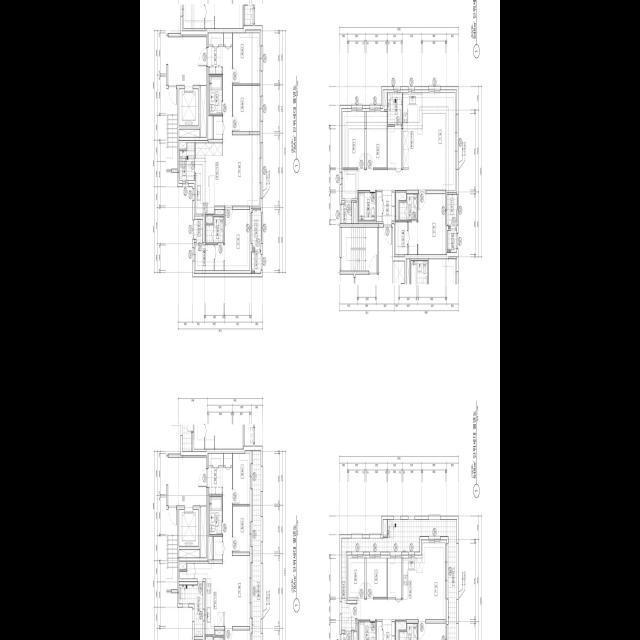background: (140, 0, 500, 640)
space_balconi: (341, 519, 457, 640), (253, 450, 261, 640), (179, 584, 203, 636), (180, 142, 195, 180), (388, 92, 402, 124), (252, 209, 261, 250), (447, 194, 457, 228)
space_bedroom: (418, 193, 446, 254), (225, 209, 250, 270), (233, 32, 260, 83), (233, 85, 260, 131), (343, 111, 365, 167), (366, 111, 387, 167), (233, 453, 250, 504), (366, 558, 387, 597), (233, 506, 250, 551), (349, 558, 365, 597), (418, 623, 445, 640)
space_dressroom: (195, 244, 224, 270), (395, 221, 417, 254)
space_elevator: (179, 509, 199, 546), (179, 88, 199, 125)
space_elevator_hall: (168, 36, 206, 85), (168, 457, 206, 505)
space_front: (207, 466, 223, 494), (207, 46, 223, 73), (383, 190, 395, 225), (383, 619, 395, 640)
space_kitchen: (180, 563, 223, 634), (195, 142, 222, 213), (403, 92, 423, 169), (403, 558, 423, 599)
space_living_room: (343, 92, 455, 198), (358, 542, 445, 619), (222, 46, 260, 205), (223, 466, 250, 626)
space_other: (388, 126, 402, 167), (388, 558, 401, 597), (200, 85, 206, 137), (200, 506, 206, 557), (396, 192, 406, 219), (341, 201, 352, 223), (194, 219, 203, 241), (214, 115, 222, 139), (396, 621, 406, 640), (214, 536, 222, 559), (376, 191, 382, 221), (209, 453, 223, 465), (209, 32, 223, 44), (179, 549, 199, 557), (179, 129, 199, 136), (224, 32, 232, 44), (224, 453, 232, 465), (377, 621, 382, 640), (209, 536, 213, 559), (353, 202, 357, 223), (341, 633, 352, 640), (383, 519, 387, 536), (206, 215, 213, 223), (384, 92, 387, 109), (215, 630, 224, 635), (215, 209, 224, 214), (180, 562, 186, 569), (180, 142, 186, 149), (353, 631, 357, 640), (206, 636, 213, 640)
space_outdoor_room: (448, 230, 457, 252), (252, 251, 261, 273)
space_staircase: (341, 227, 377, 270)
space_toilet: (359, 192, 376, 220), (399, 193, 417, 219), (210, 75, 222, 114), (206, 216, 224, 242), (210, 496, 222, 534), (359, 621, 376, 640), (399, 623, 417, 640)
